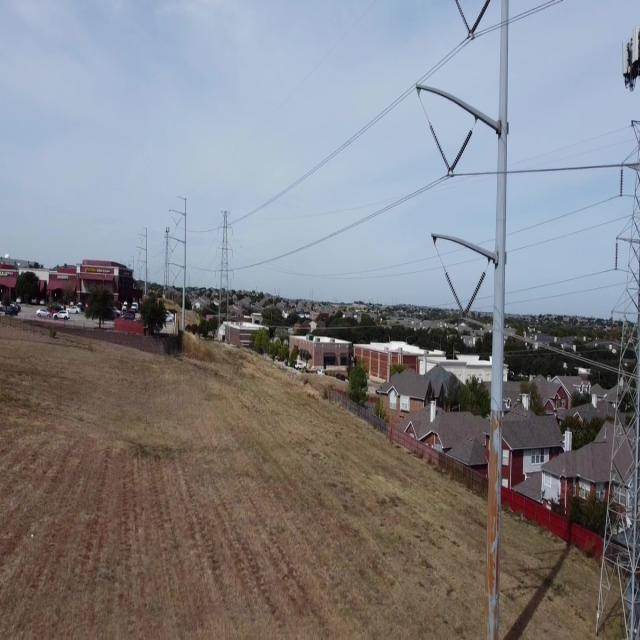杆塔: (210, 202, 244, 345)
正常绝缘子: (421, 104, 461, 187), (437, 116, 480, 192), (453, 260, 495, 330), (439, 256, 473, 327), (460, 0, 496, 51), (448, 0, 478, 47), (616, 158, 626, 208), (611, 231, 620, 273)
